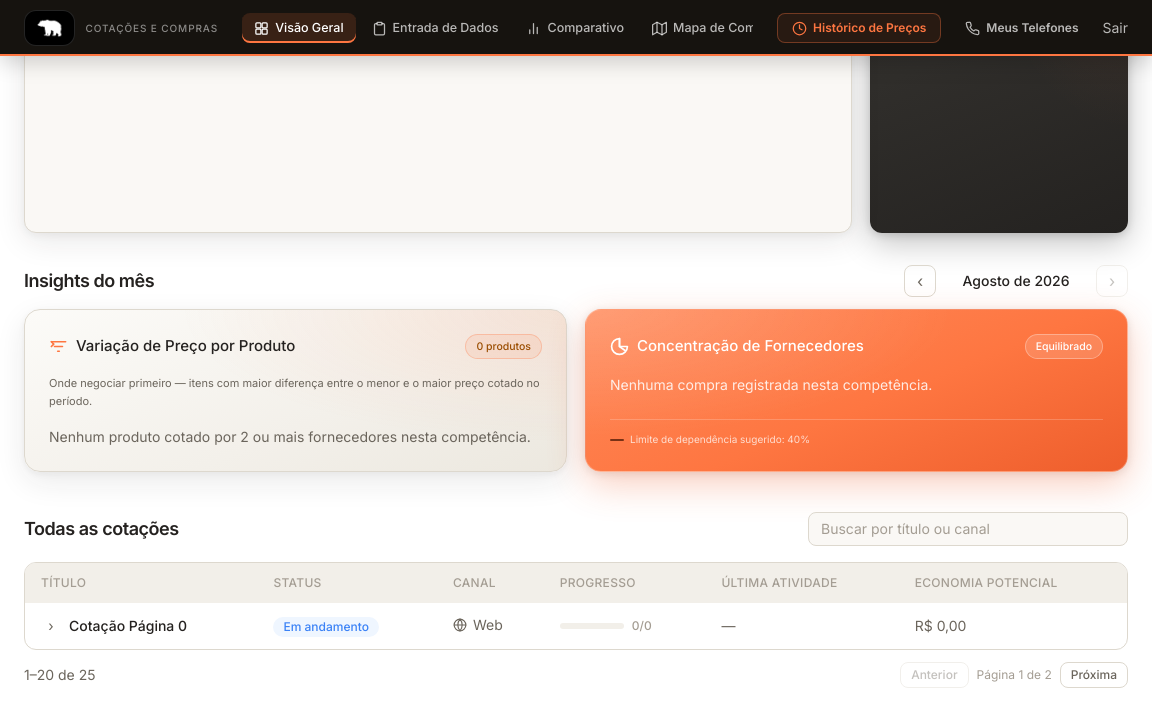
Test: Dashboard — paginação server-side de 'Todas as cotações' › mostra os controles de paginação quando há mais cotações que o tamanho de página, e busca a página certa ao clicar em 'Próxima'/'Anterior'
(page scrolled)
Check: the link "Cotação Página 0" is shown, box x1=69 y1=617 x2=187 y2=634
Check: the text "…" is not shown
What coordinates should you click on to do the following:
click the button "Próxima"
I would click on:
 (1094, 675)
Its box is x1=1060 y1=662 x2=1128 y2=688.
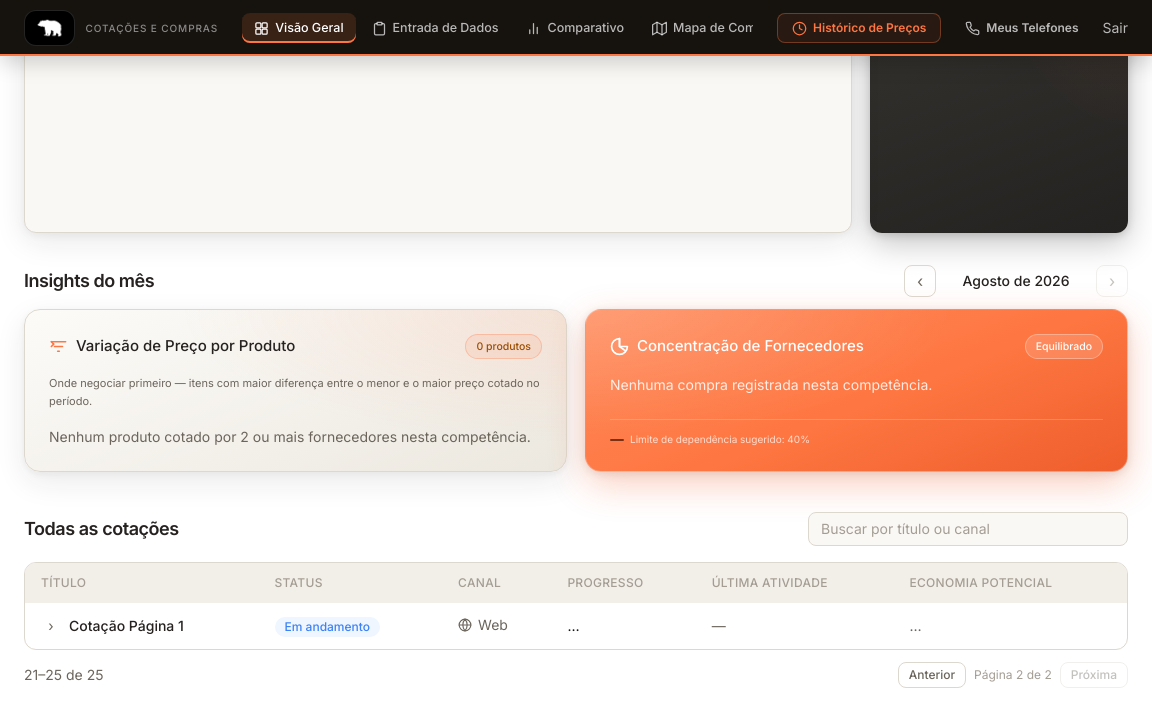
Check: the link "Cotação Página 1" is shown, box x1=69 y1=617 x2=184 y2=634
Check: the link "Cotação Página 0" is gone
What coordinates should you click on to do the following:
click the button "Anterior"
I would click on:
 (932, 675)
Its box is x1=898 y1=662 x2=966 y2=688.
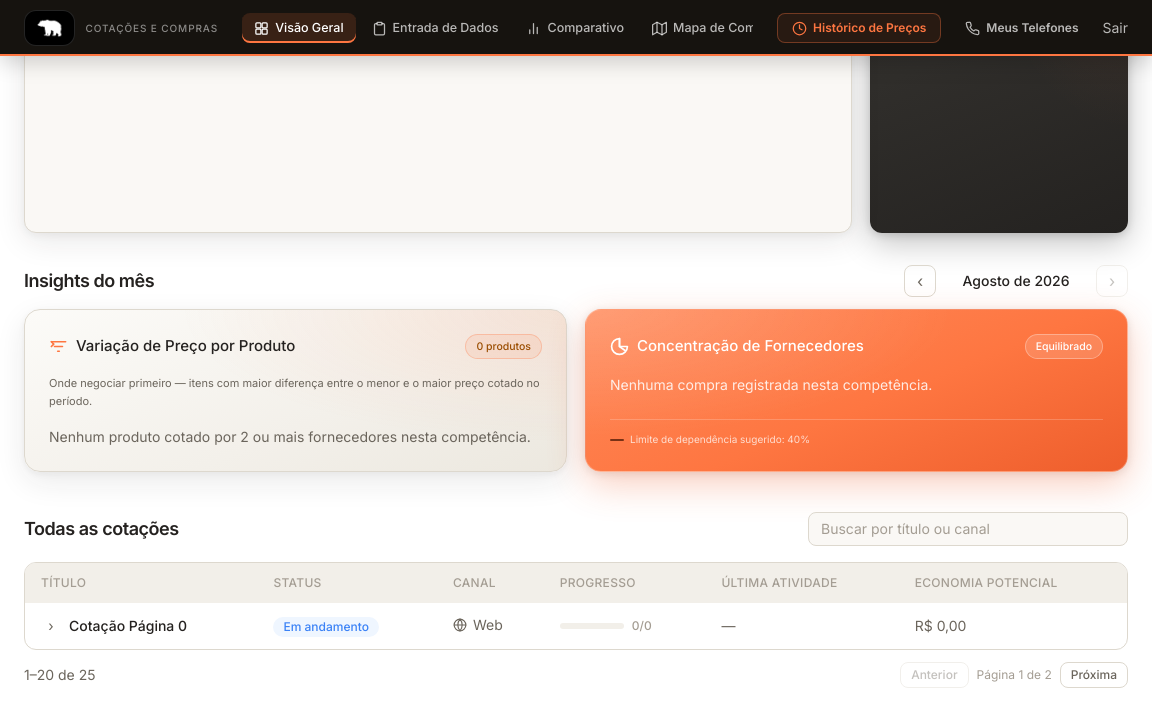
Check: the link "Cotação Página 0" is shown, box x1=69 y1=617 x2=187 y2=634
Check: the link "Cotação Página 1" is gone
